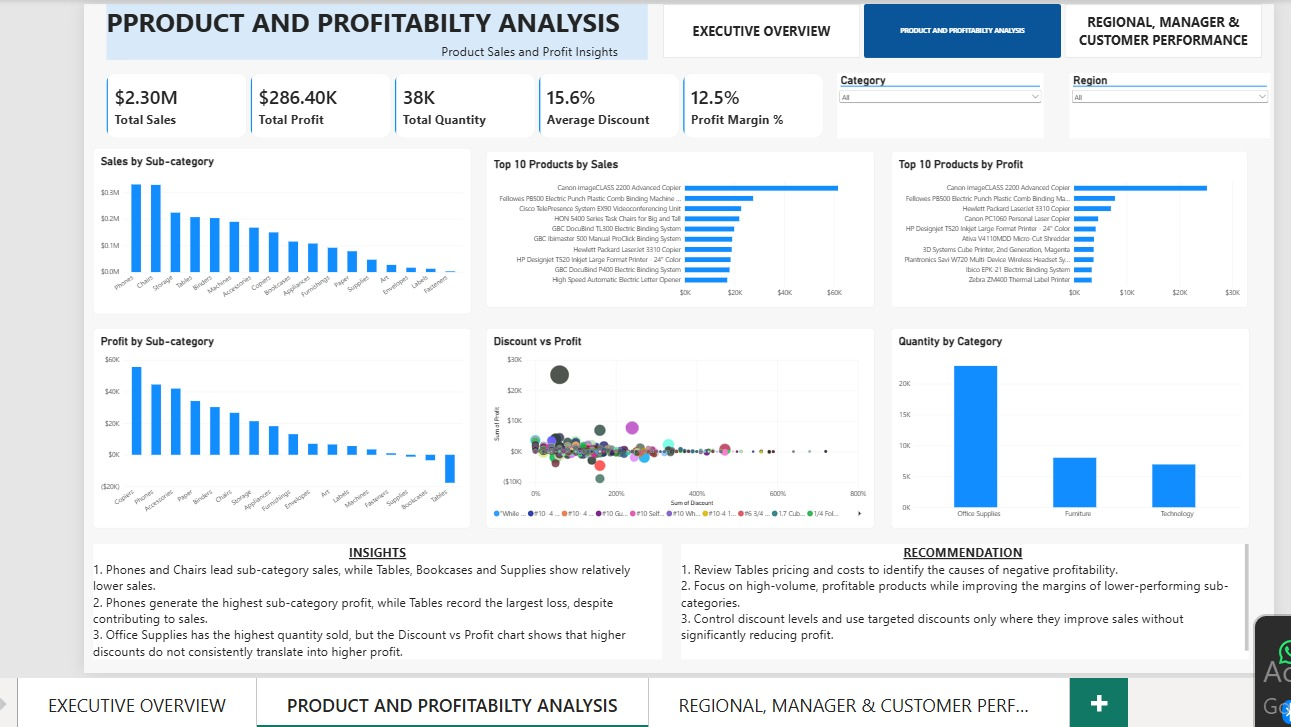

Layout of this report page (visuals, bound fields, positions):
{"tool":"powerbi","page":{"name":"PRODUCT AND PROFITABILTY ANALYSIS","canvas":[2560,1440],"ordinal":1},"visuals":[{"type":"cardVisual","fields":{"Data":["Sum(Orders$FilterDatabase.Sales)","Sum(Orders$FilterDatabase.Profit)","Sum(Orders$FilterDatabase.Quantity)","Avg(Orders$FilterDatabase.Discount)","Orders$FilterDatabase.Profit Margin %"]},"box":[48,148,1544,140],"z":0},{"type":"columnChart","title":"Sales by Sub-category","fields":{"Category":["Orders$FilterDatabase.Sub-Category"],"Y":["Sum(Orders$FilterDatabase.Sales)"]},"box":[19.8,309,813.5,357.2],"z":1000},{"type":"textbox","box":[48,0,1164,120],"z":2000},{"type":"columnChart","title":" Profit by Sub-category","fields":{"Category":["Orders$FilterDatabase.Sub-Category"],"Y":["Sum(Orders$FilterDatabase.Profit)"]},"box":[18.9,695.4,812.6,430.9],"z":3000},{"type":"barChart","title":"Top 10 Products by Profit","fields":{"Category":["Orders$FilterDatabase.Product Name"],"Y":["Sum(Orders$FilterDatabase.Profit)"]},"box":[1734.8,317.5,767.2,336.4],"z":4000},{"type":"scatterChart","title":"Discount vs Profit ","fields":{"Series":["Orders$FilterDatabase.Product Name"],"Size":["Sum(Orders$FilterDatabase.Sales)"],"X":["Sum(Orders$FilterDatabase.Discount)"],"Y":["Sum(Orders$FilterDatabase.Profit)"]},"box":[865.5,695.4,835.3,430.9],"z":5000},{"type":"barChart","title":"Top 10 Products by Sales","fields":{"Category":["Orders$FilterDatabase.Product Name"],"Y":["Sum(Orders$FilterDatabase.Sales)"]},"box":[865.5,317.5,835.3,336.4],"z":6000},{"type":"columnChart","title":"Quantity by Category","fields":{"Category":["Orders$FilterDatabase.Category"],"Y":["Sum(Orders$FilterDatabase.Quantity)"]},"box":[1734.8,695.4,771,430.9],"z":7000},{"type":"slicer","fields":{"Values":["Orders$FilterDatabase.Category"]},"box":[1620,148,444,140],"z":8000},{"type":"slicer","fields":{"Values":["Orders$FilterDatabase.Region"]},"box":[2120,148,432,140],"z":9000},{"type":"pageNavigator","box":[1244,0,1288,116],"z":10000},{"type":"textbox","box":[20.7,1162.1,1224.1,248.3],"z":11000},{"type":"textbox","box":[1282.8,1162.1,1220.7,248.3],"z":12000},{"type":"textbox","box":[100,82.8,1048.3,65.5],"z":12001},{"type":"textbox","box":[100,100,300,300],"z":12002}]}

Visuals, with their boxes on the page's 2560x1440 design canvas (x1, y1, x2, y2). These are canvas units, not pixel positions in the 1291x727 screenshot, which may show the page scaled, cropped or inside an application window:
cardVisual - Sum(Orders$FilterDatabase.Sales) x Sum(Orders$FilterDatabase.Profit): x1=48 y1=148 x2=1592 y2=288
"Sales by Sub-category" columnChart: x1=20 y1=309 x2=833 y2=666
textbox: x1=48 y1=0 x2=1212 y2=120
" Profit by Sub-category" columnChart: x1=19 y1=695 x2=832 y2=1126
"Top 10 Products by Profit" barChart: x1=1735 y1=318 x2=2502 y2=654
"Discount vs Profit " scatterChart: x1=866 y1=695 x2=1701 y2=1126
"Top 10 Products by Sales" barChart: x1=866 y1=318 x2=1701 y2=654
"Quantity by Category" columnChart: x1=1735 y1=695 x2=2506 y2=1126
slicer - Orders$FilterDatabase.Category: x1=1620 y1=148 x2=2064 y2=288
slicer - Orders$FilterDatabase.Region: x1=2120 y1=148 x2=2552 y2=288
pageNavigator: x1=1244 y1=0 x2=2532 y2=116
textbox: x1=21 y1=1162 x2=1245 y2=1410
textbox: x1=1283 y1=1162 x2=2504 y2=1410
textbox: x1=100 y1=83 x2=1148 y2=148
textbox: x1=100 y1=100 x2=400 y2=400
